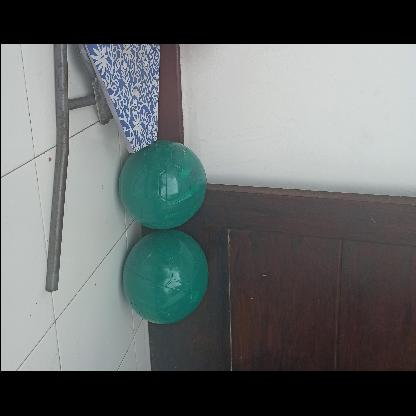green_ball: (115, 228, 212, 326), (117, 142, 207, 232)
